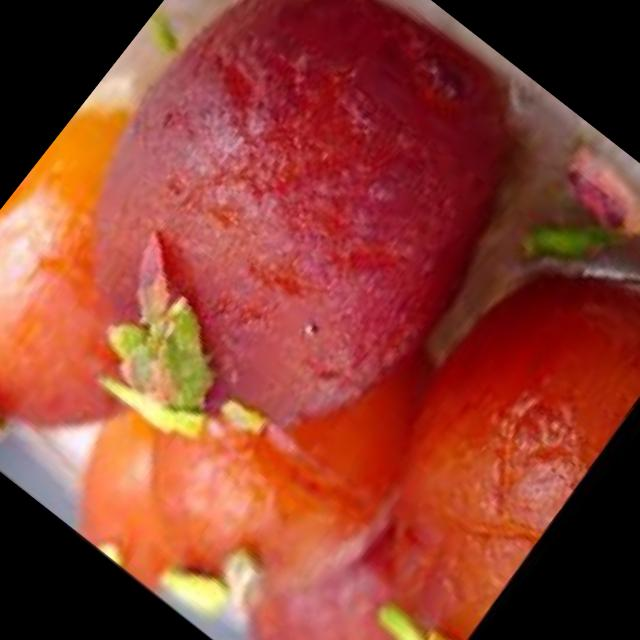gulab_jamun: (1, 0, 590, 510), (95, 241, 491, 640), (297, 210, 640, 640), (0, 86, 280, 477), (39, 399, 265, 616), (214, 479, 485, 640)
